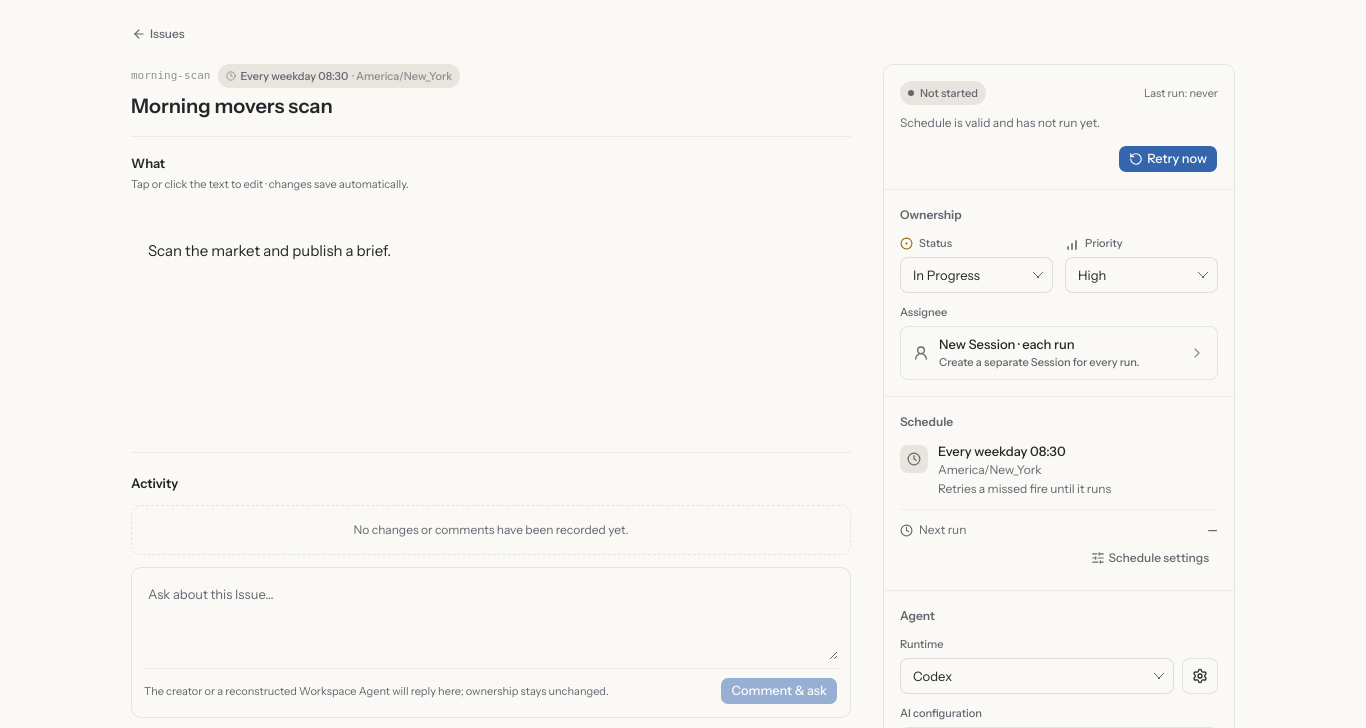
Scenario: IssueDetail manual run › confirms before retrying a failed run
Click the button "Retry now" at (1168, 158), box x1=1118 y1=144 x2=1218 y2=172
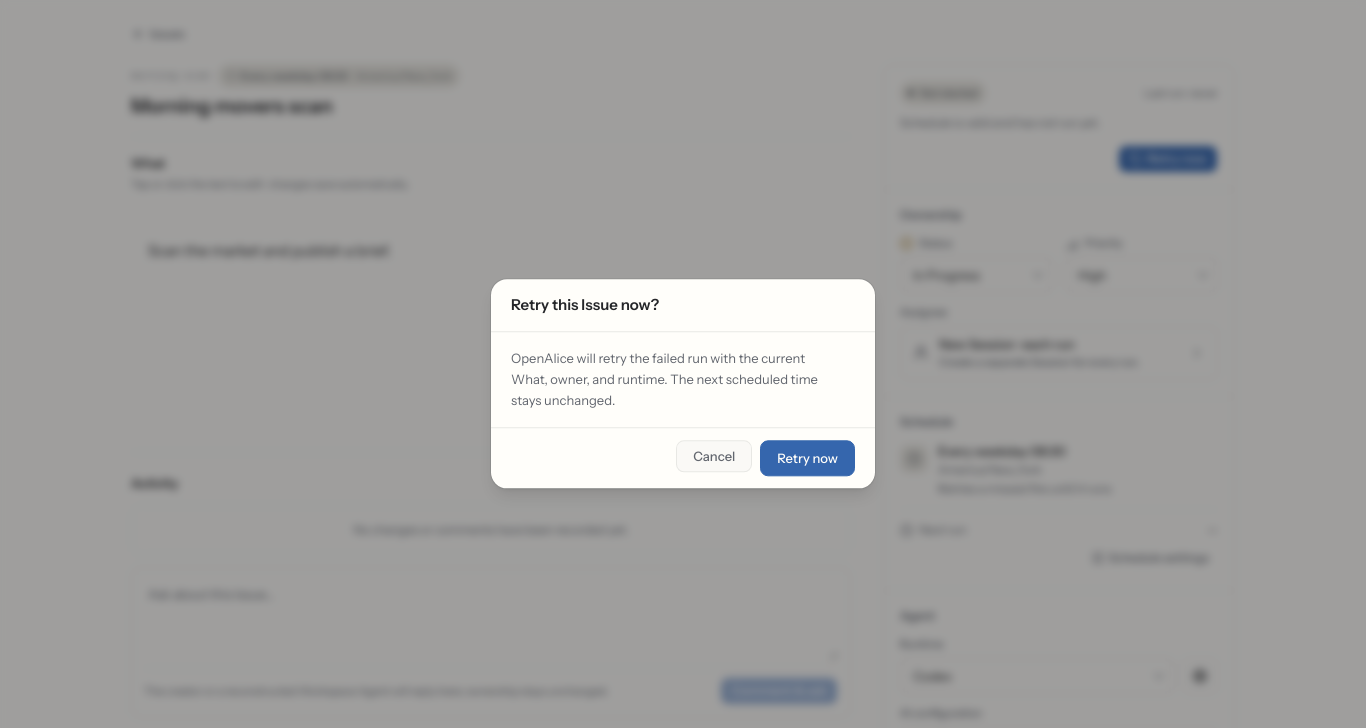
Now the dialog "Retry this Issue now?" shows "The next scheduled time stays unchanged.", box x1=511 y1=350 x2=818 y2=409
Click the button "Retry now" at (808, 459), box x1=760 y1=441 x2=855 y2=477
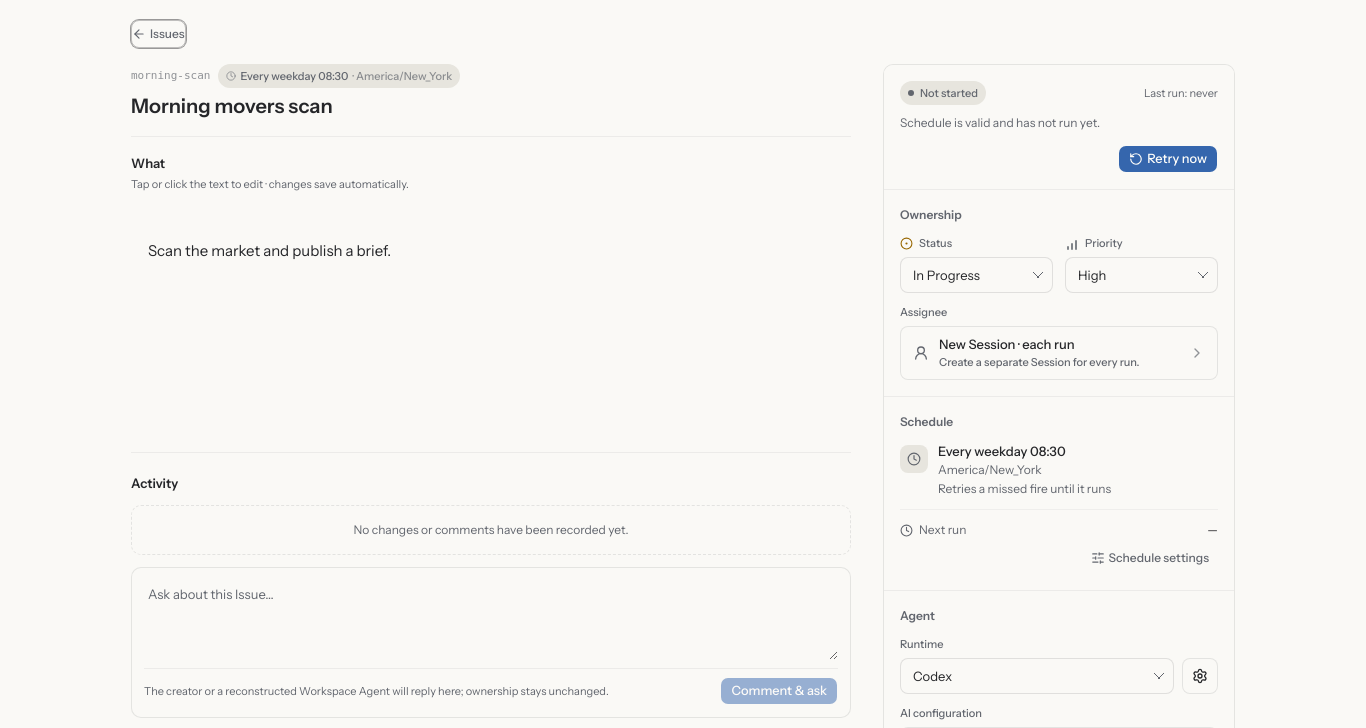
Now the dialog is gone
